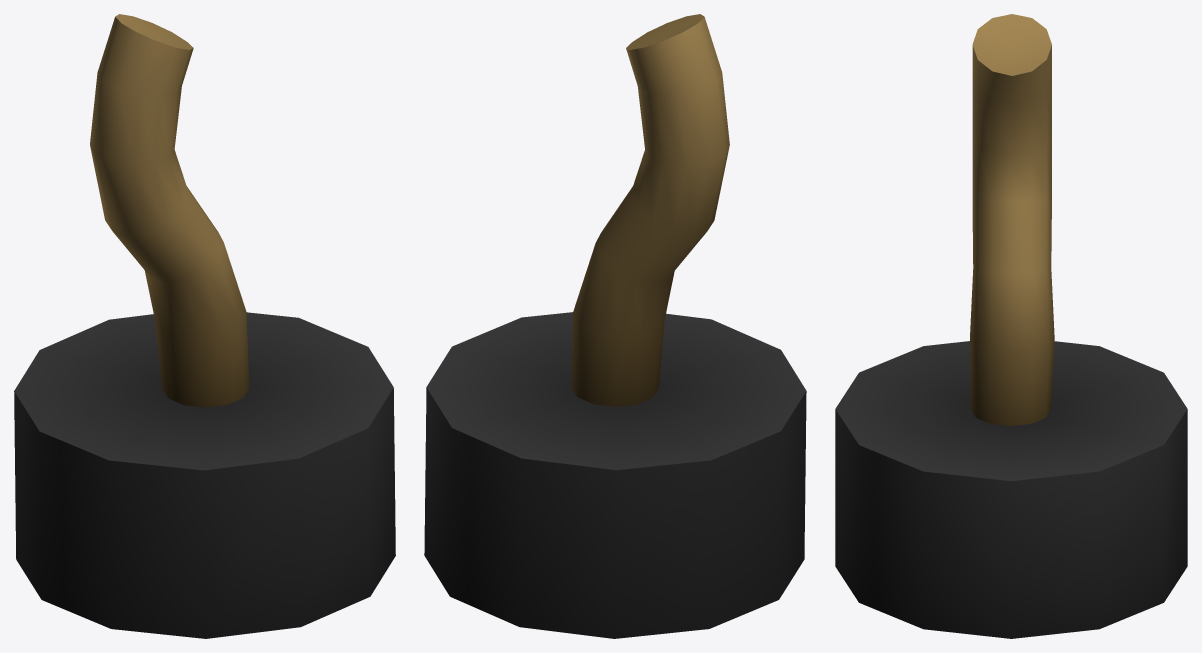
File: human-tools-lever_v1.glb
The picture shows the model from 3 angles, left to right: view 1: azimuth 30°, elevation 25°; view 2: azimuth 150°, elevation 25°; view 3: azimuth 270°, elevation 25°; orthographic projection. The views are drawn at different scales.
Parts seen in each view (by area): view 1: Lever; view 2: Lever; view 3: Lever.
Boxes of the visible parts, <box> form: Lever: <box>14,14,395,638</box>; Lever: <box>424,14,806,638</box>; Lever: <box>835,14,1187,638</box>.
Bounding box in the file's own units: 0.1865 × 0.3 × 0.1854.
